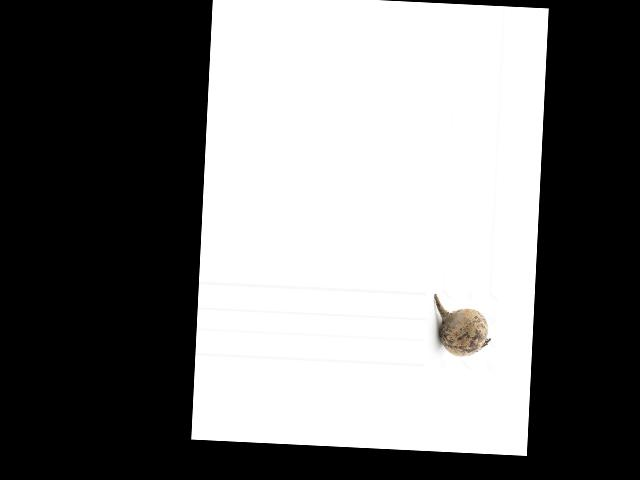beet: (431, 294, 492, 358)
